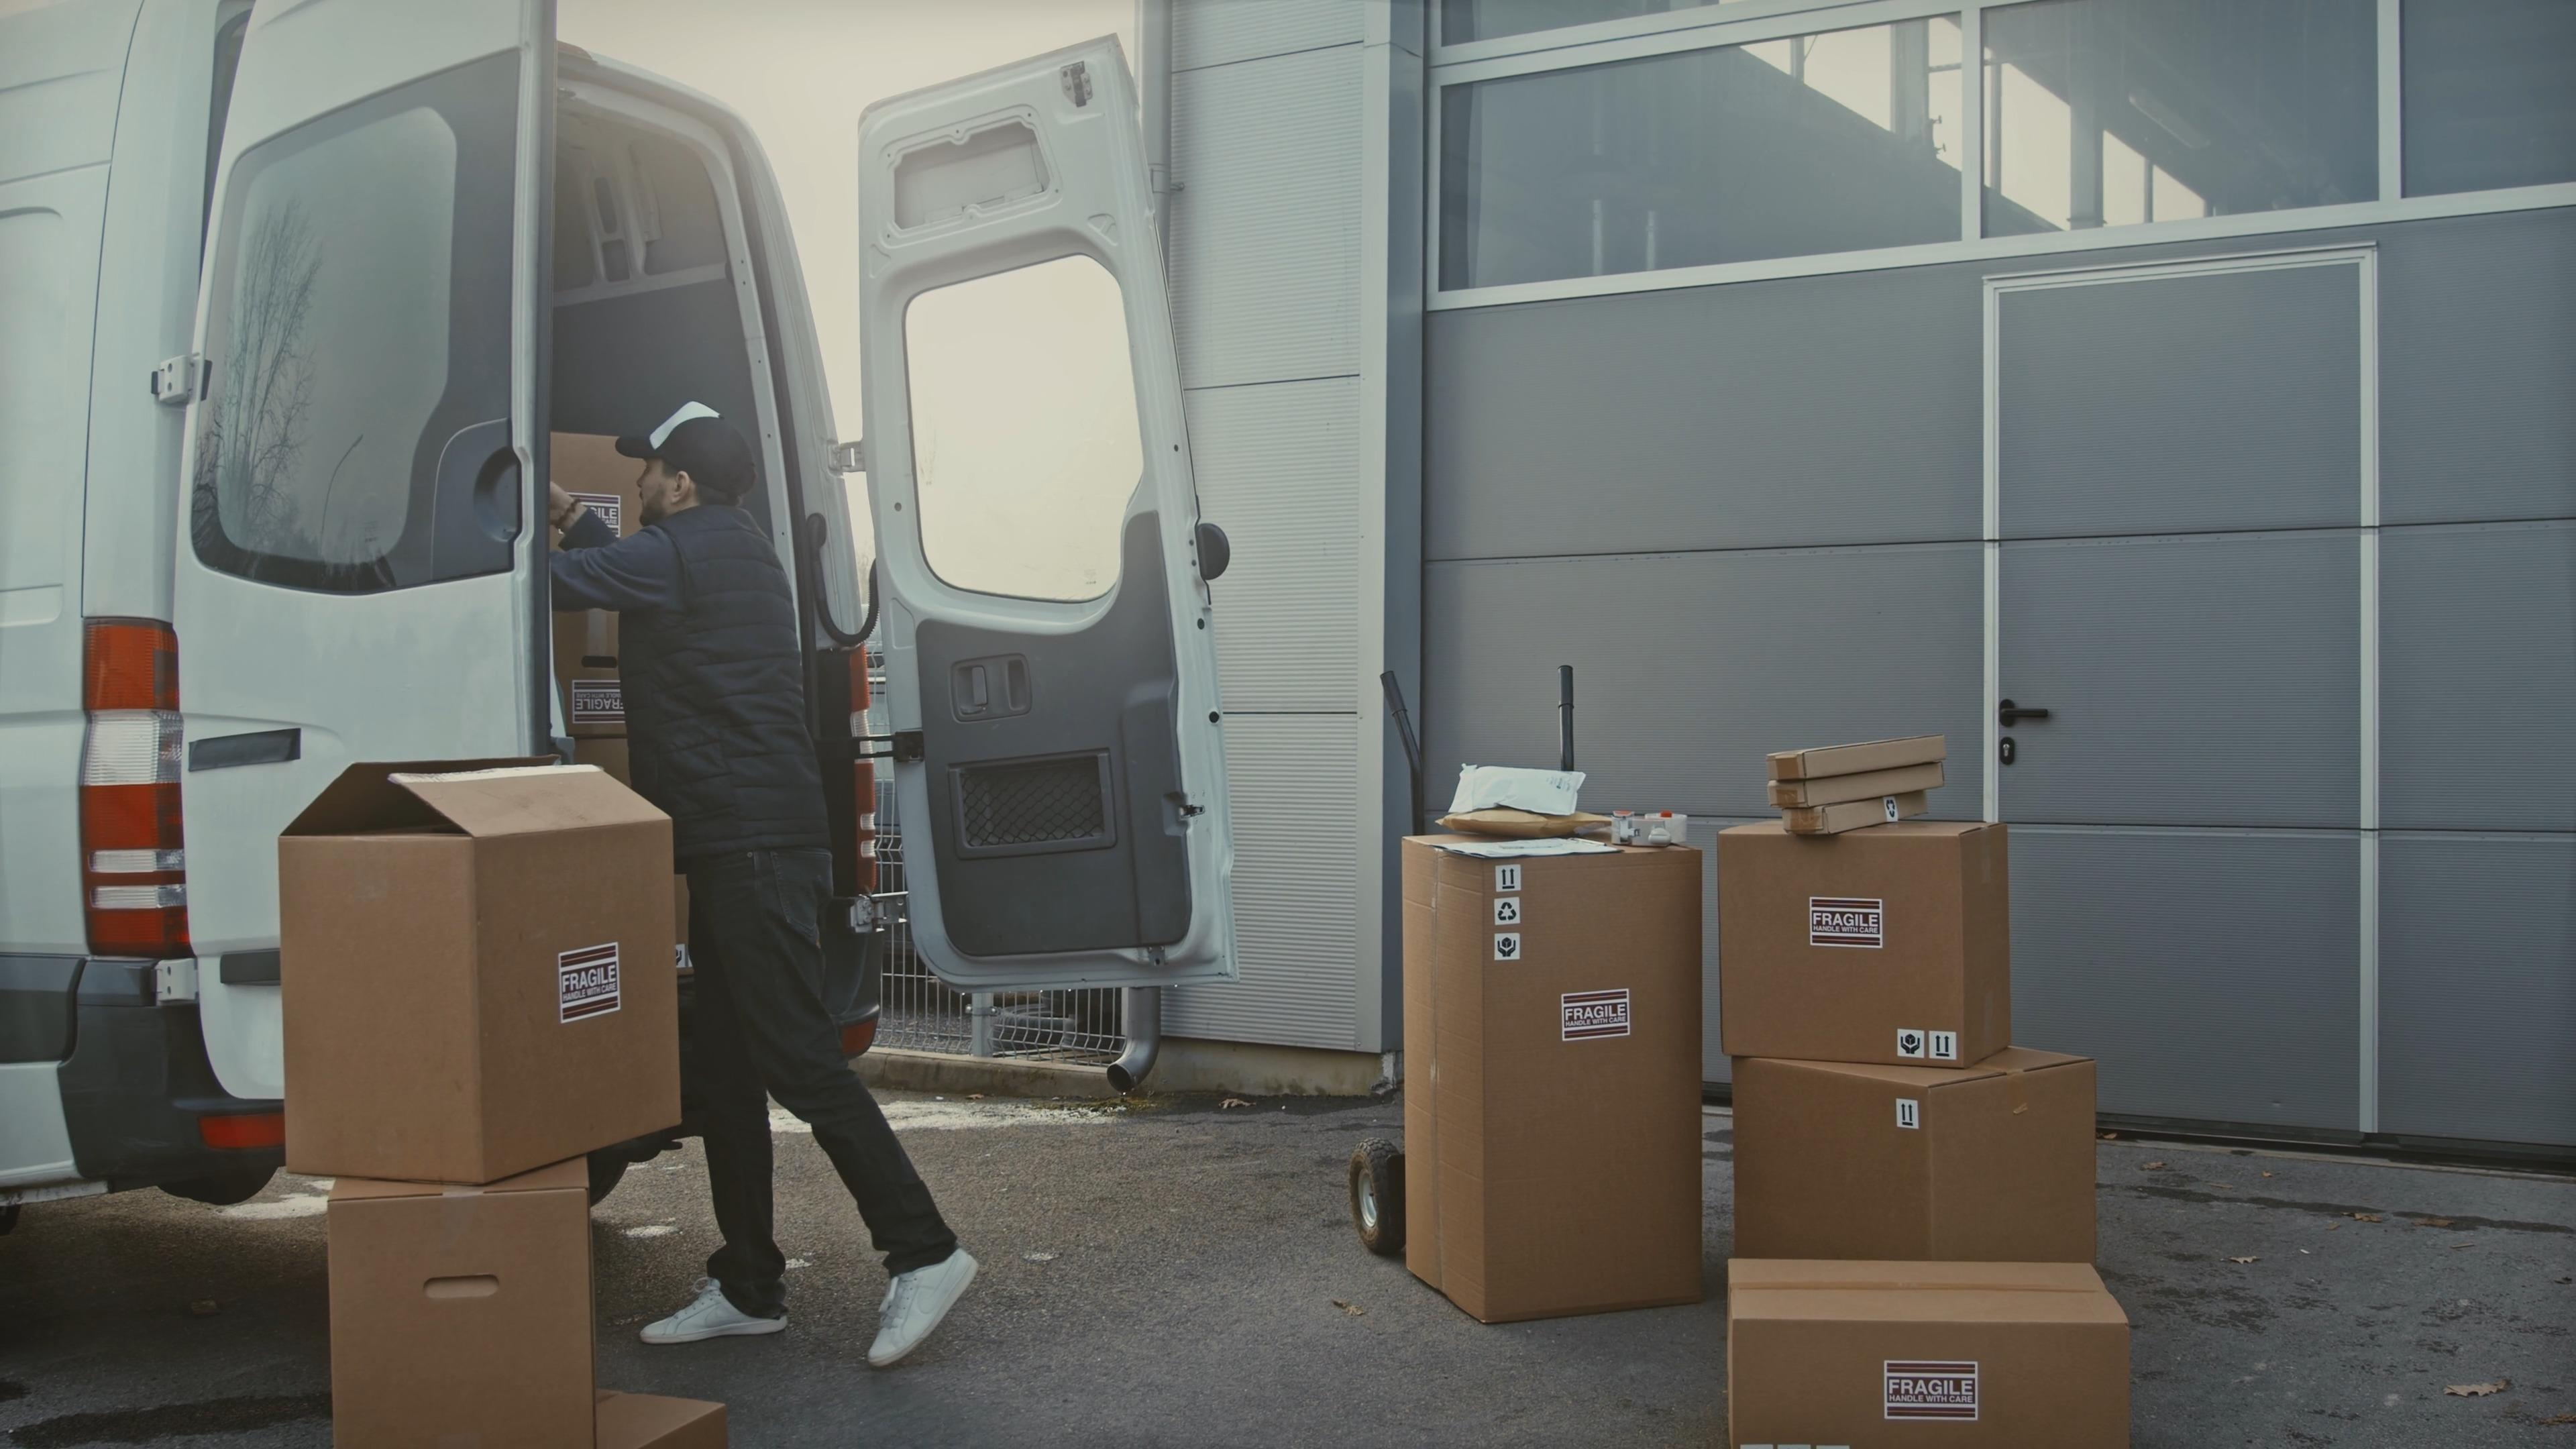-: (280, 770, 688, 1182), (1392, 816, 1697, 1327), (1737, 1054, 2095, 1286), (1707, 816, 2012, 1081), (1736, 1258, 2127, 1449), (1920, 1192, 1939, 1201)
